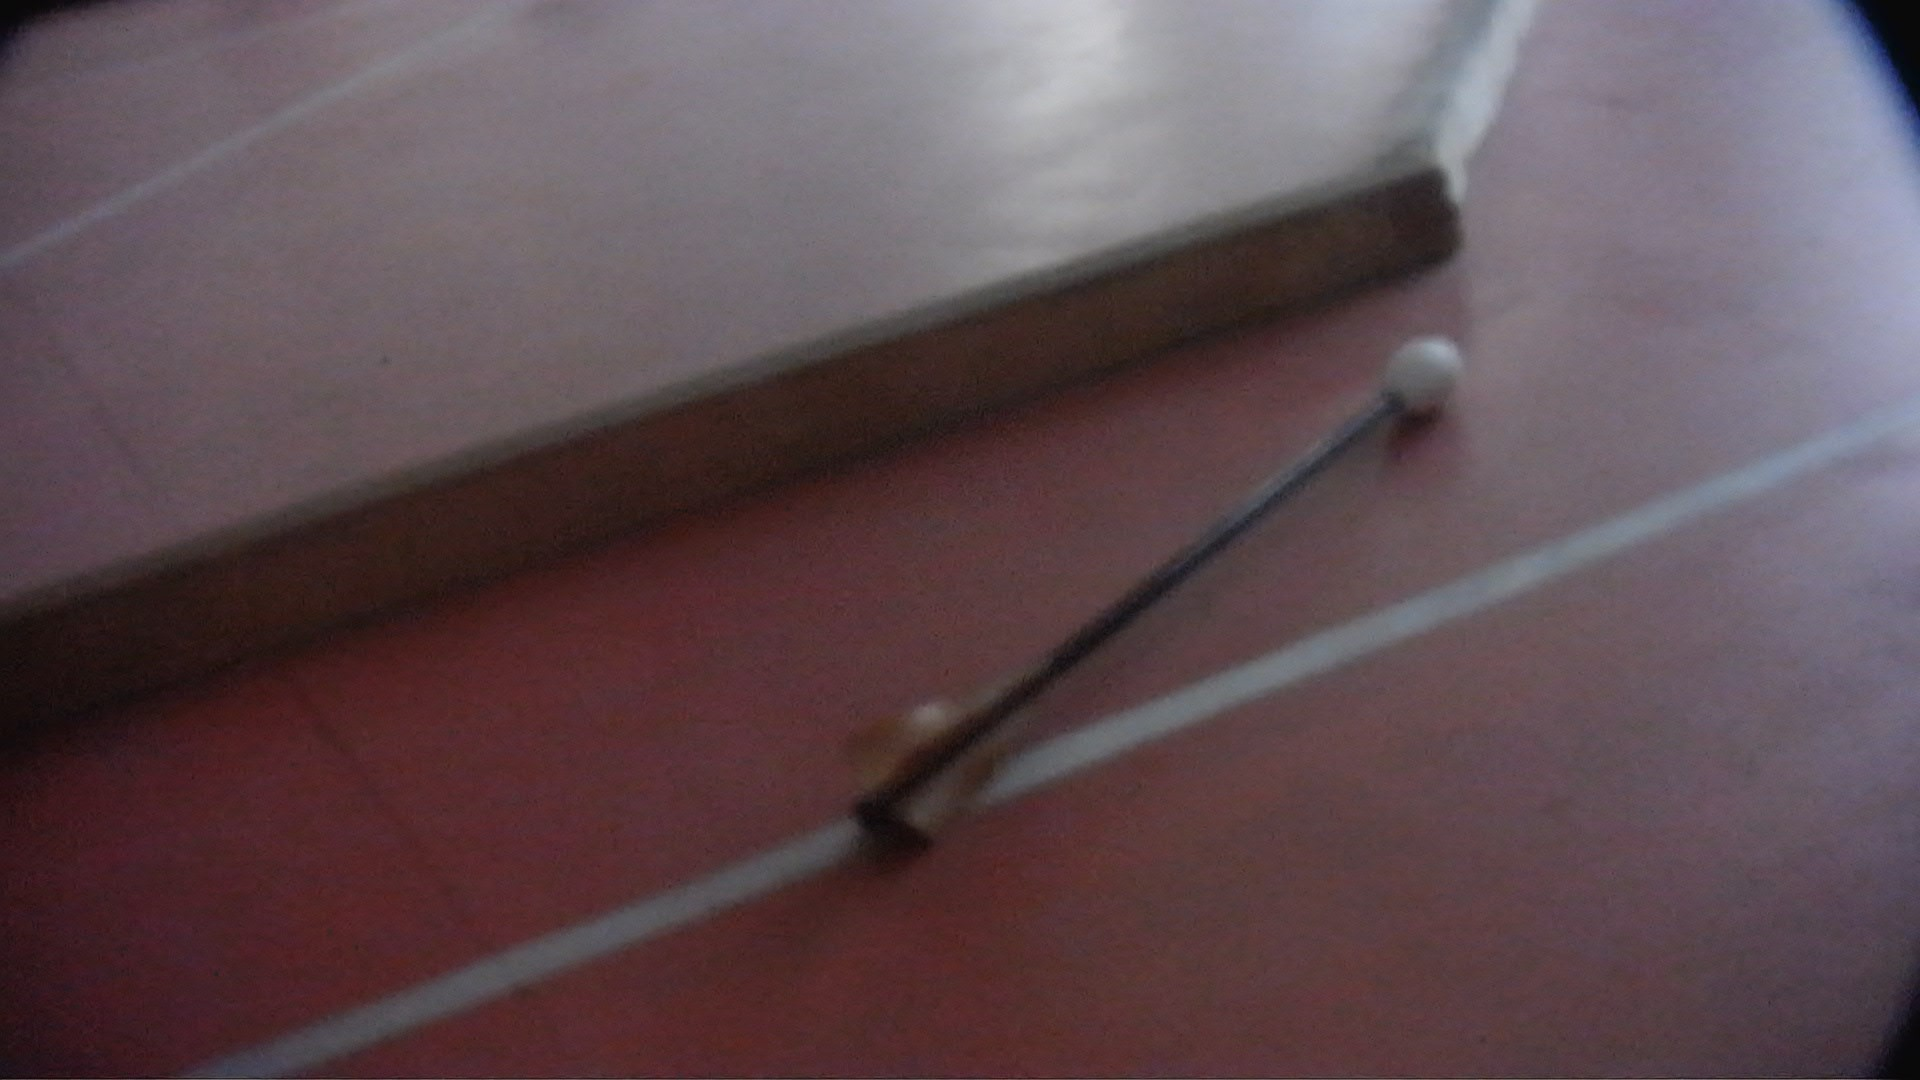arrow: (840, 340, 1461, 847)
arrowFront: (1371, 334, 1465, 419)
